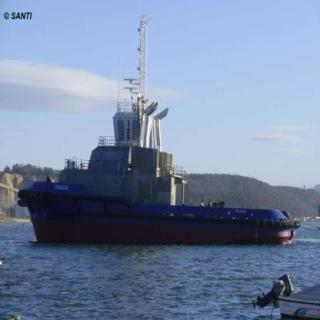Tug Boat: (22, 18, 296, 240)
